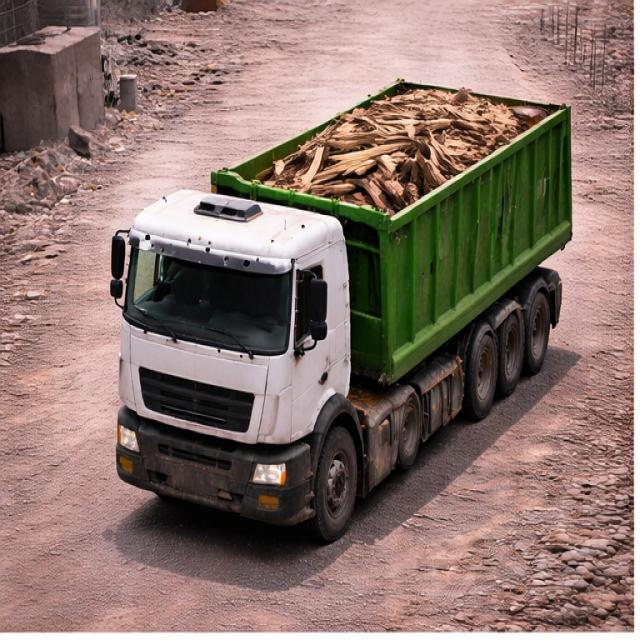trailer: (203, 70, 572, 234)
truck: (107, 50, 585, 531)
